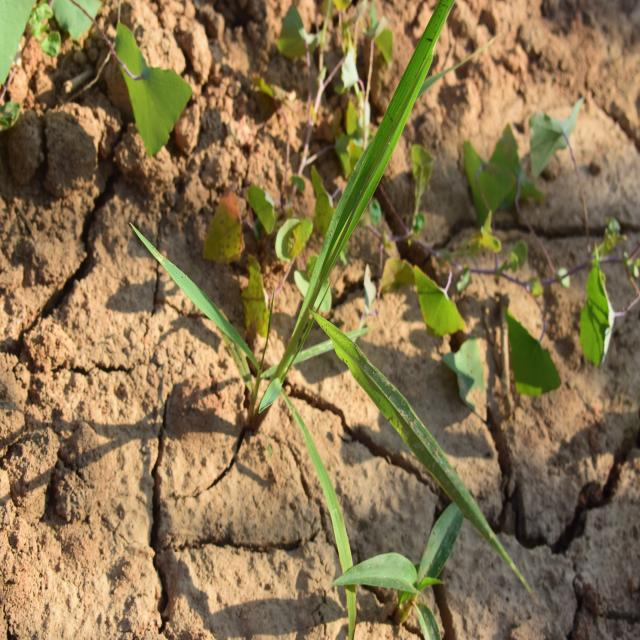green_foxtail: (238, 29, 444, 509)
